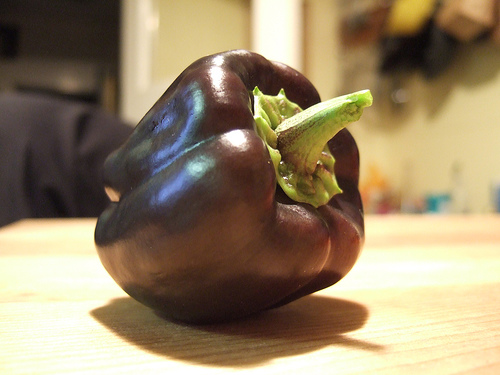capsicum: (94, 48, 373, 321)
